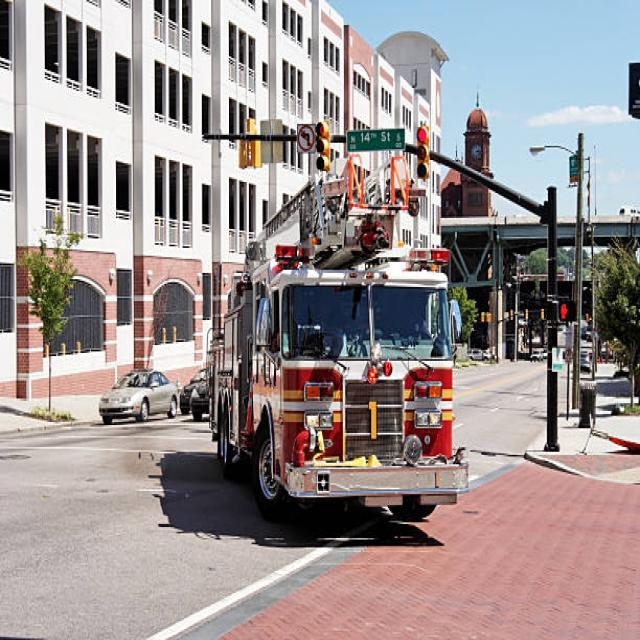car: (99, 369, 179, 424)
emergency: (210, 158, 469, 519)
